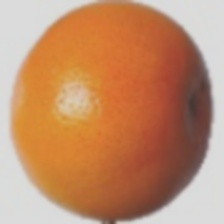grapes: (37, 35, 172, 174)
